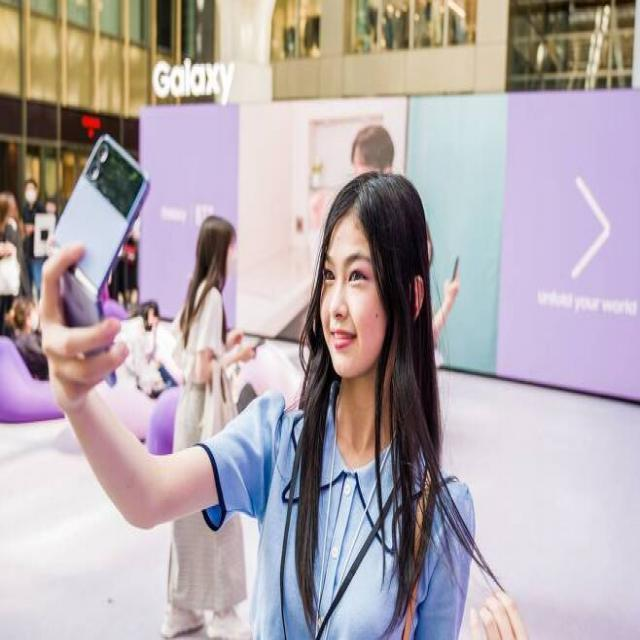phone: (48, 133, 154, 328)
